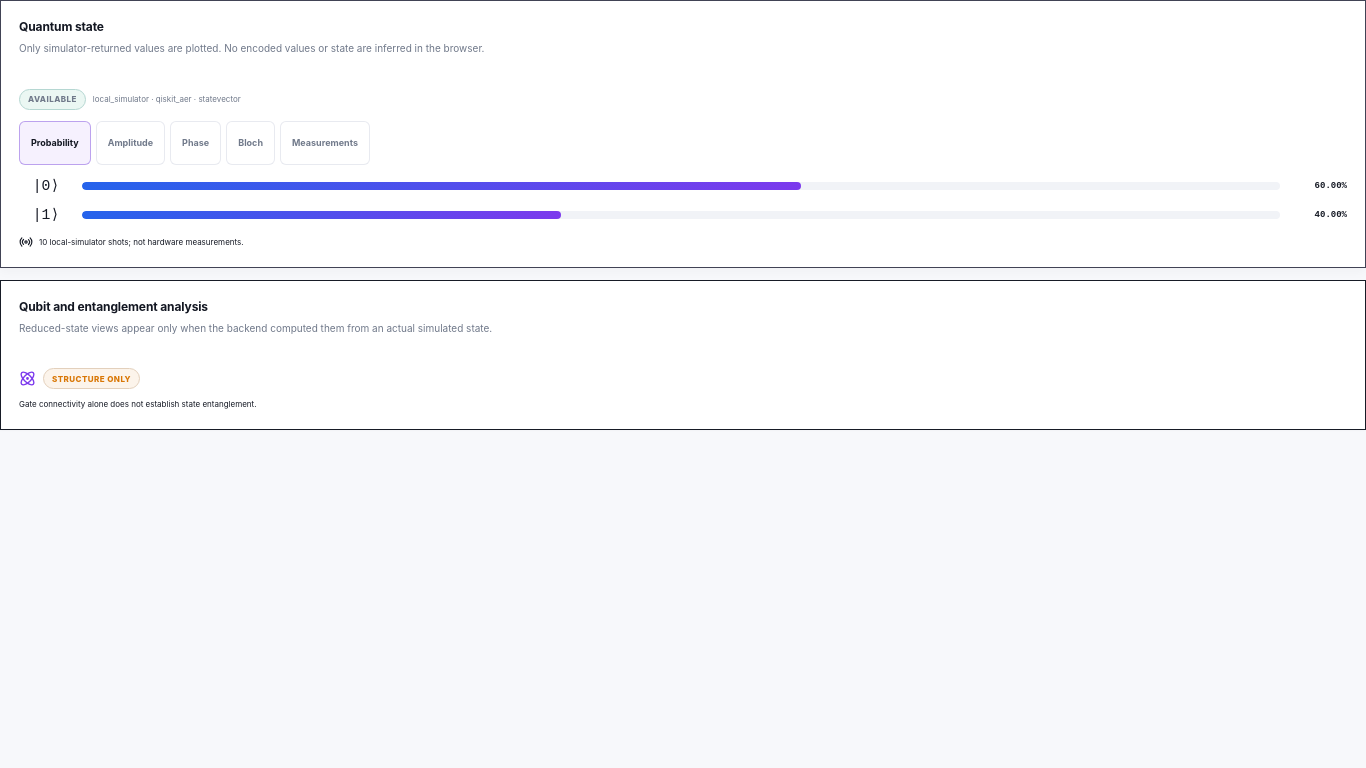
Test: Quantum Lab visualization contract components › exposes phase, reduced Bloch, and measurement views only from returned simulator values
Check: the tab "Phase" is shown, box [170,120,221,164]
Check: the tab "Bloch" is shown, box [226,120,275,164]
Press ArrowRight in the tab "Probability", box [19,120,91,164]
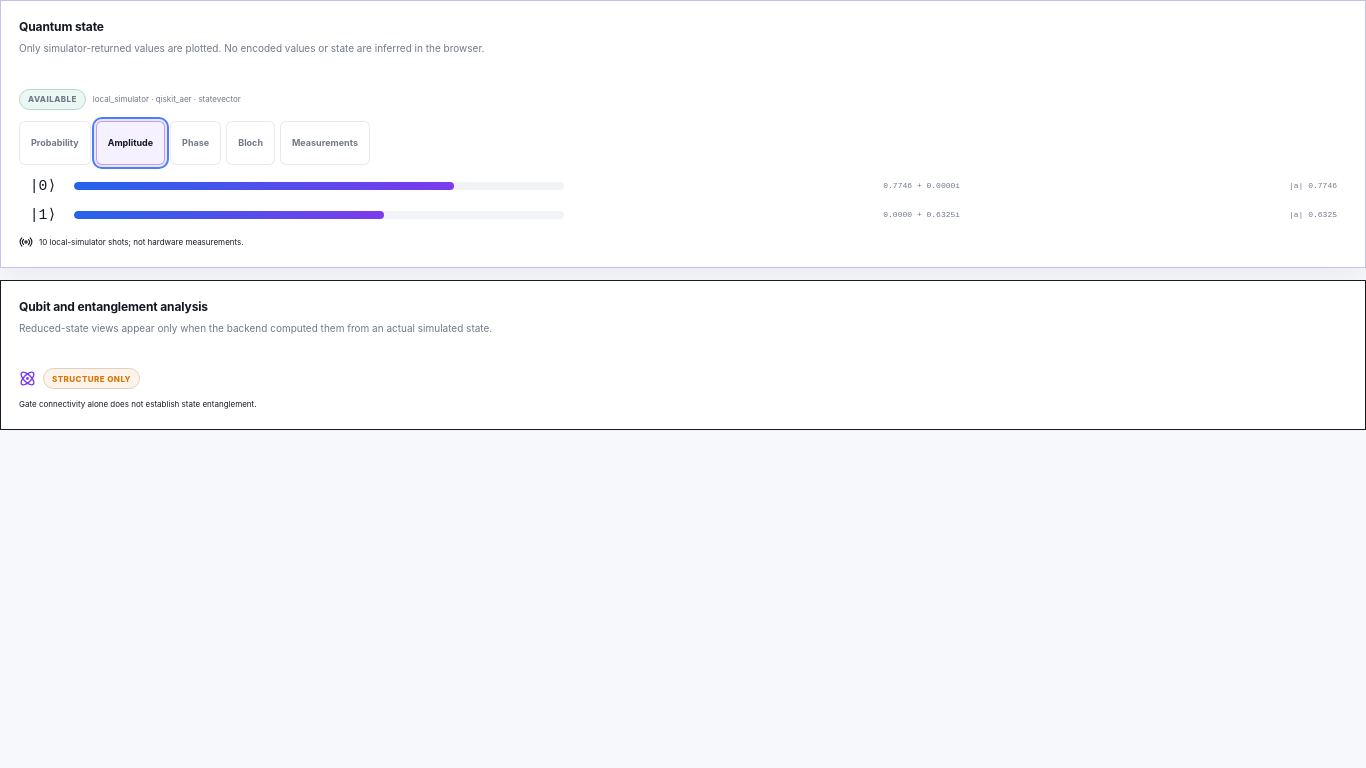
Check: the tab "Amplitude" is selected, box [96,120,165,164]
Click the tab "Phase": [196, 142] box [170,120,221,164]
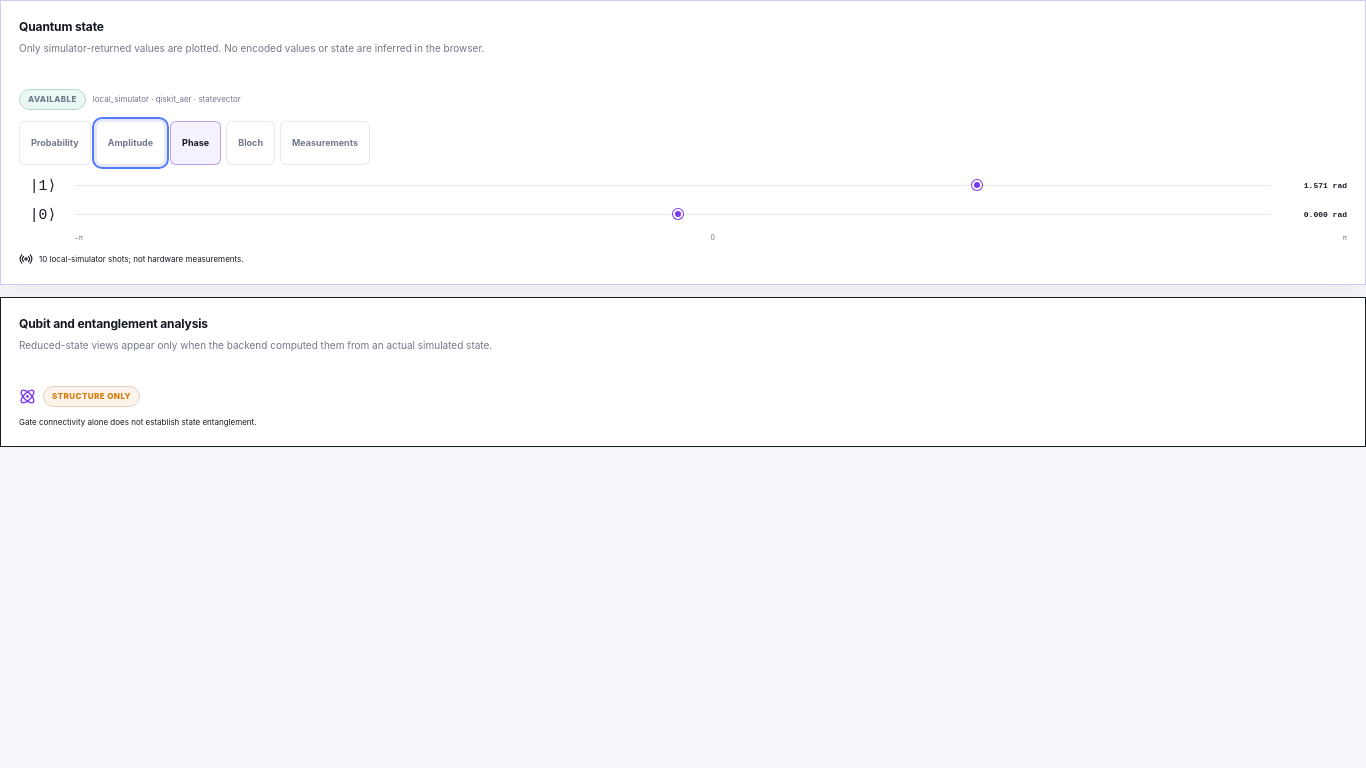
Check: the text "1.571 rad" is shown, box [1304,181,1347,190]
Click the tab "Bloch": [251, 142] box [226,120,275,164]
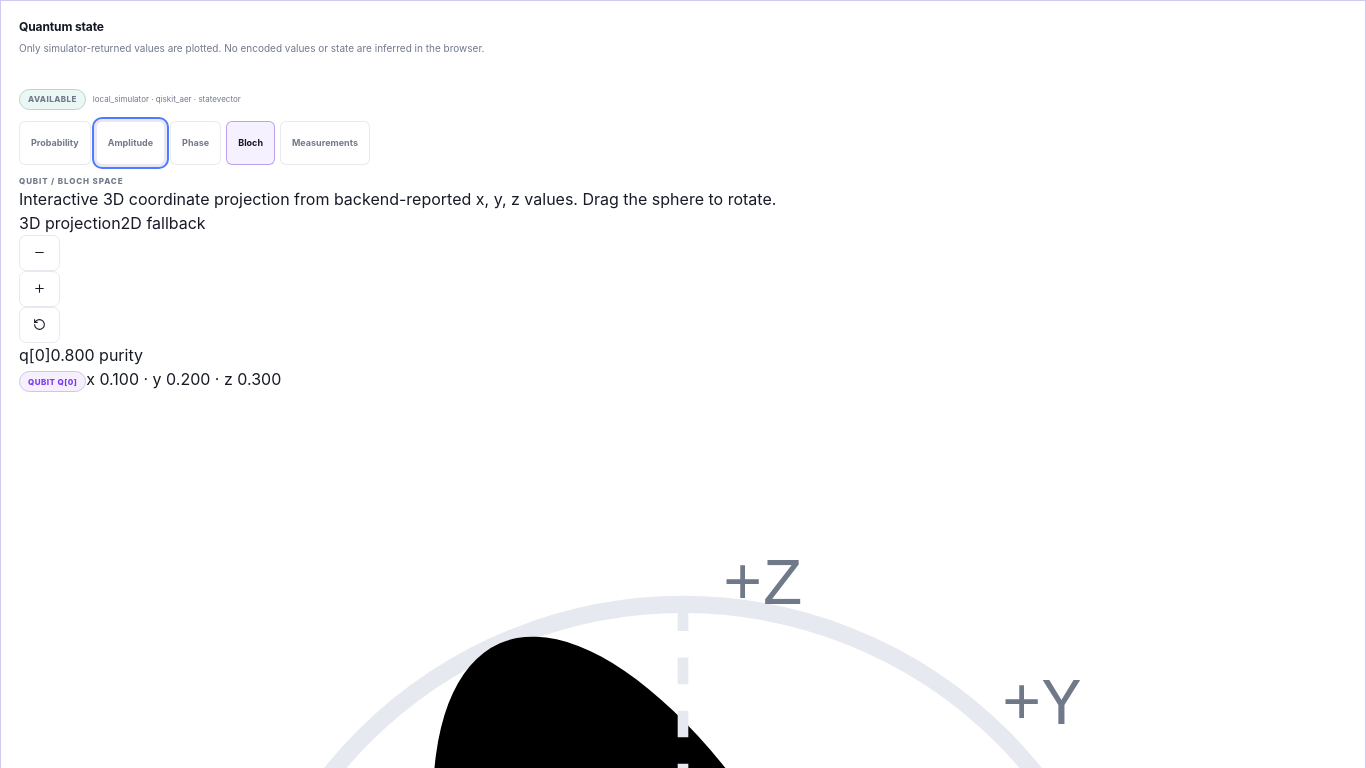
Click the tab "Measurements": [325, 142] box [280,120,370,164]
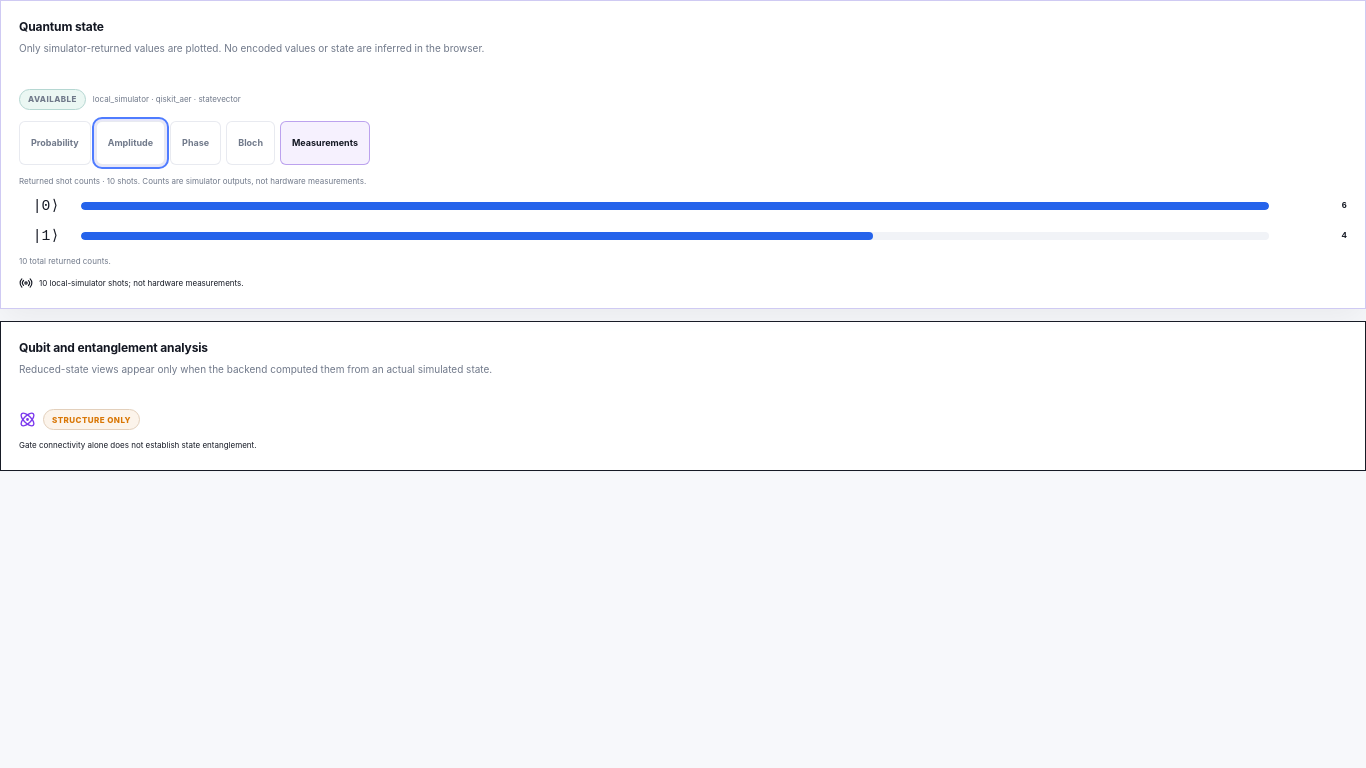
Check: the text "6" is shown, box [1342,200,1347,210]
Check: the text "simulator outputs, not hardware measurements" is shown, box [138,176,366,186]
